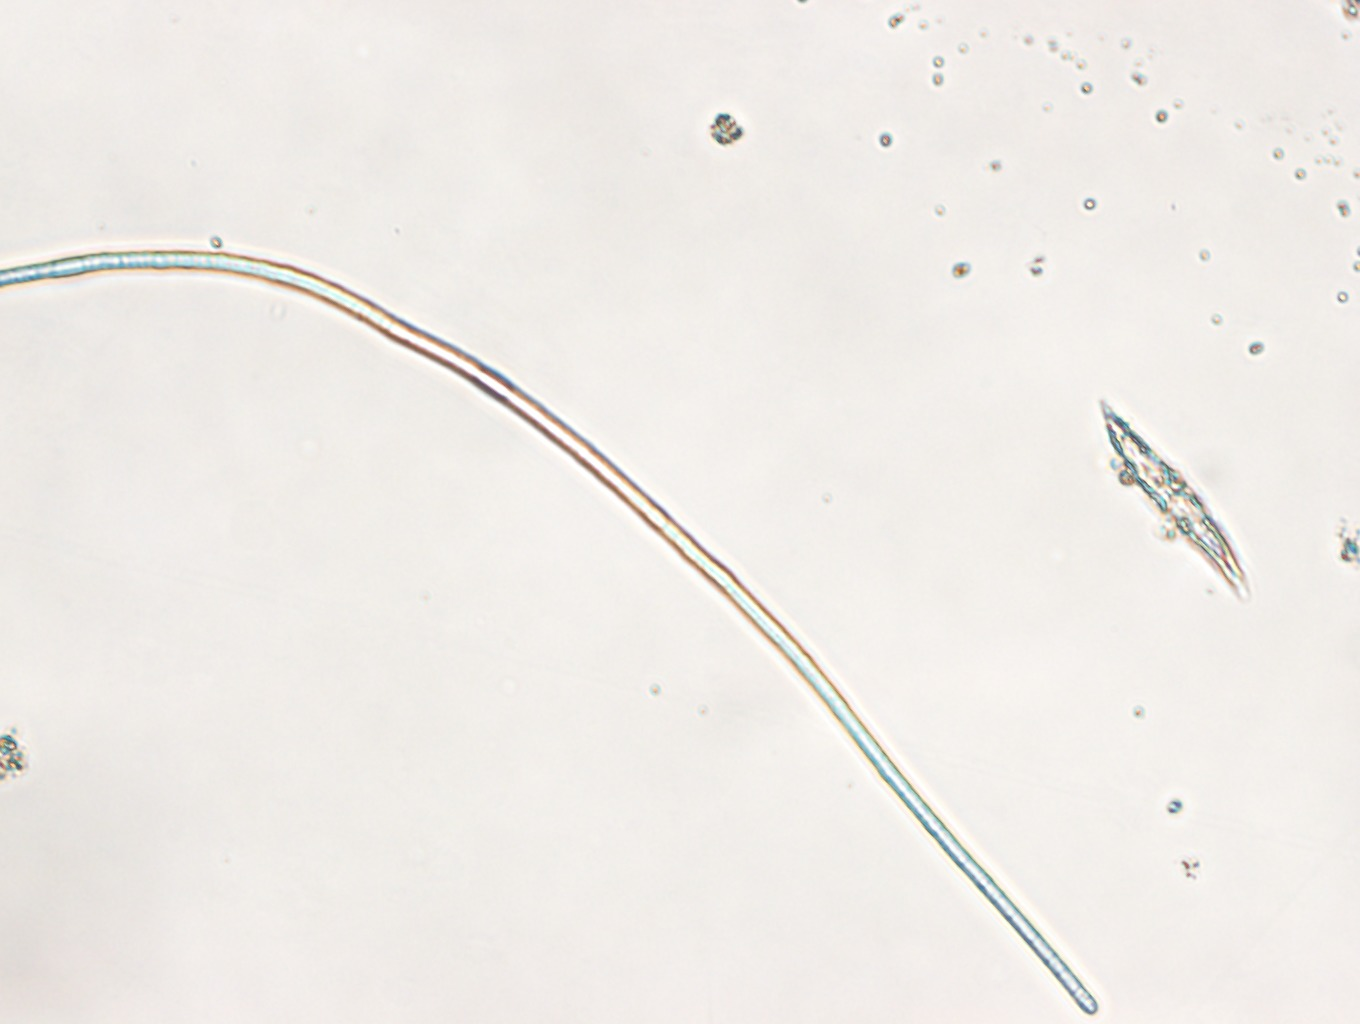pleurosigma pelagicum: (1096, 394, 1251, 601)
